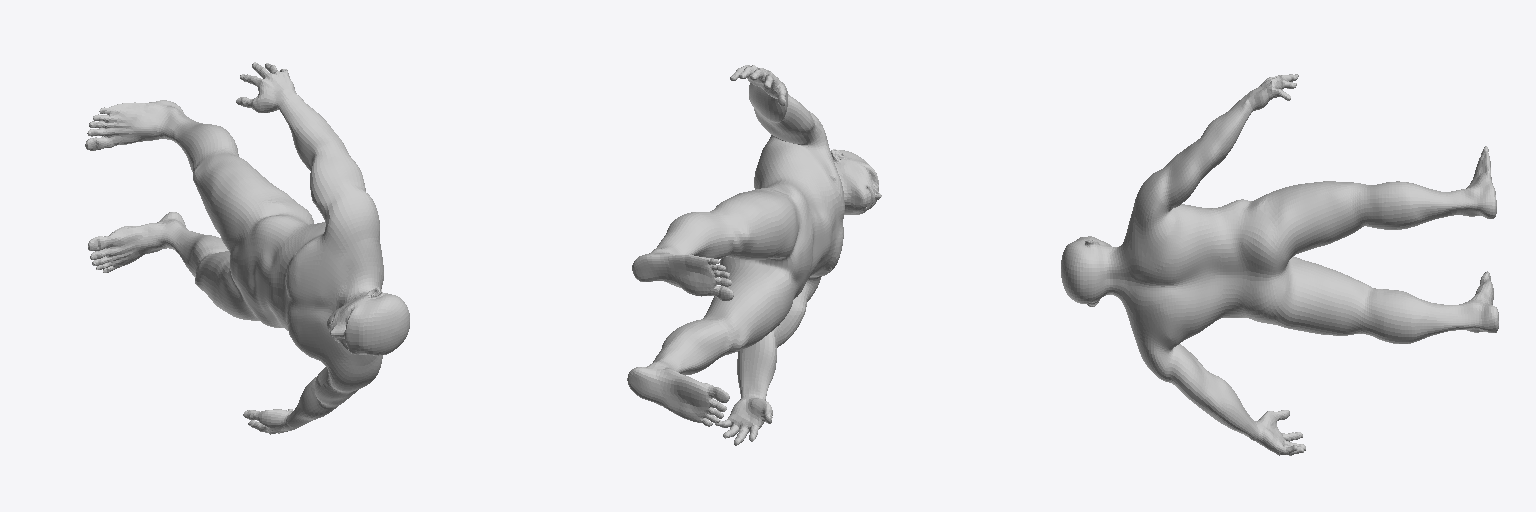
File: person2.obj
3 renders of one model, left to right at view 1: azimuth 30°, elevation 25°; view 2: azimuth 150°, elevation 25°; view 3: azimuth 270°, elevation 25°, orthographic.
Parts seen in each view (by area): view 1: Person; view 2: Person; view 3: Person.
Part boxes in pixels (bbox=[...]): Person: bbox=[85, 62, 409, 434]; Person: bbox=[627, 65, 881, 445]; Person: bbox=[1061, 74, 1498, 455].
Size of the model in its own units: 0.6472 by 1.69 by 1.81.